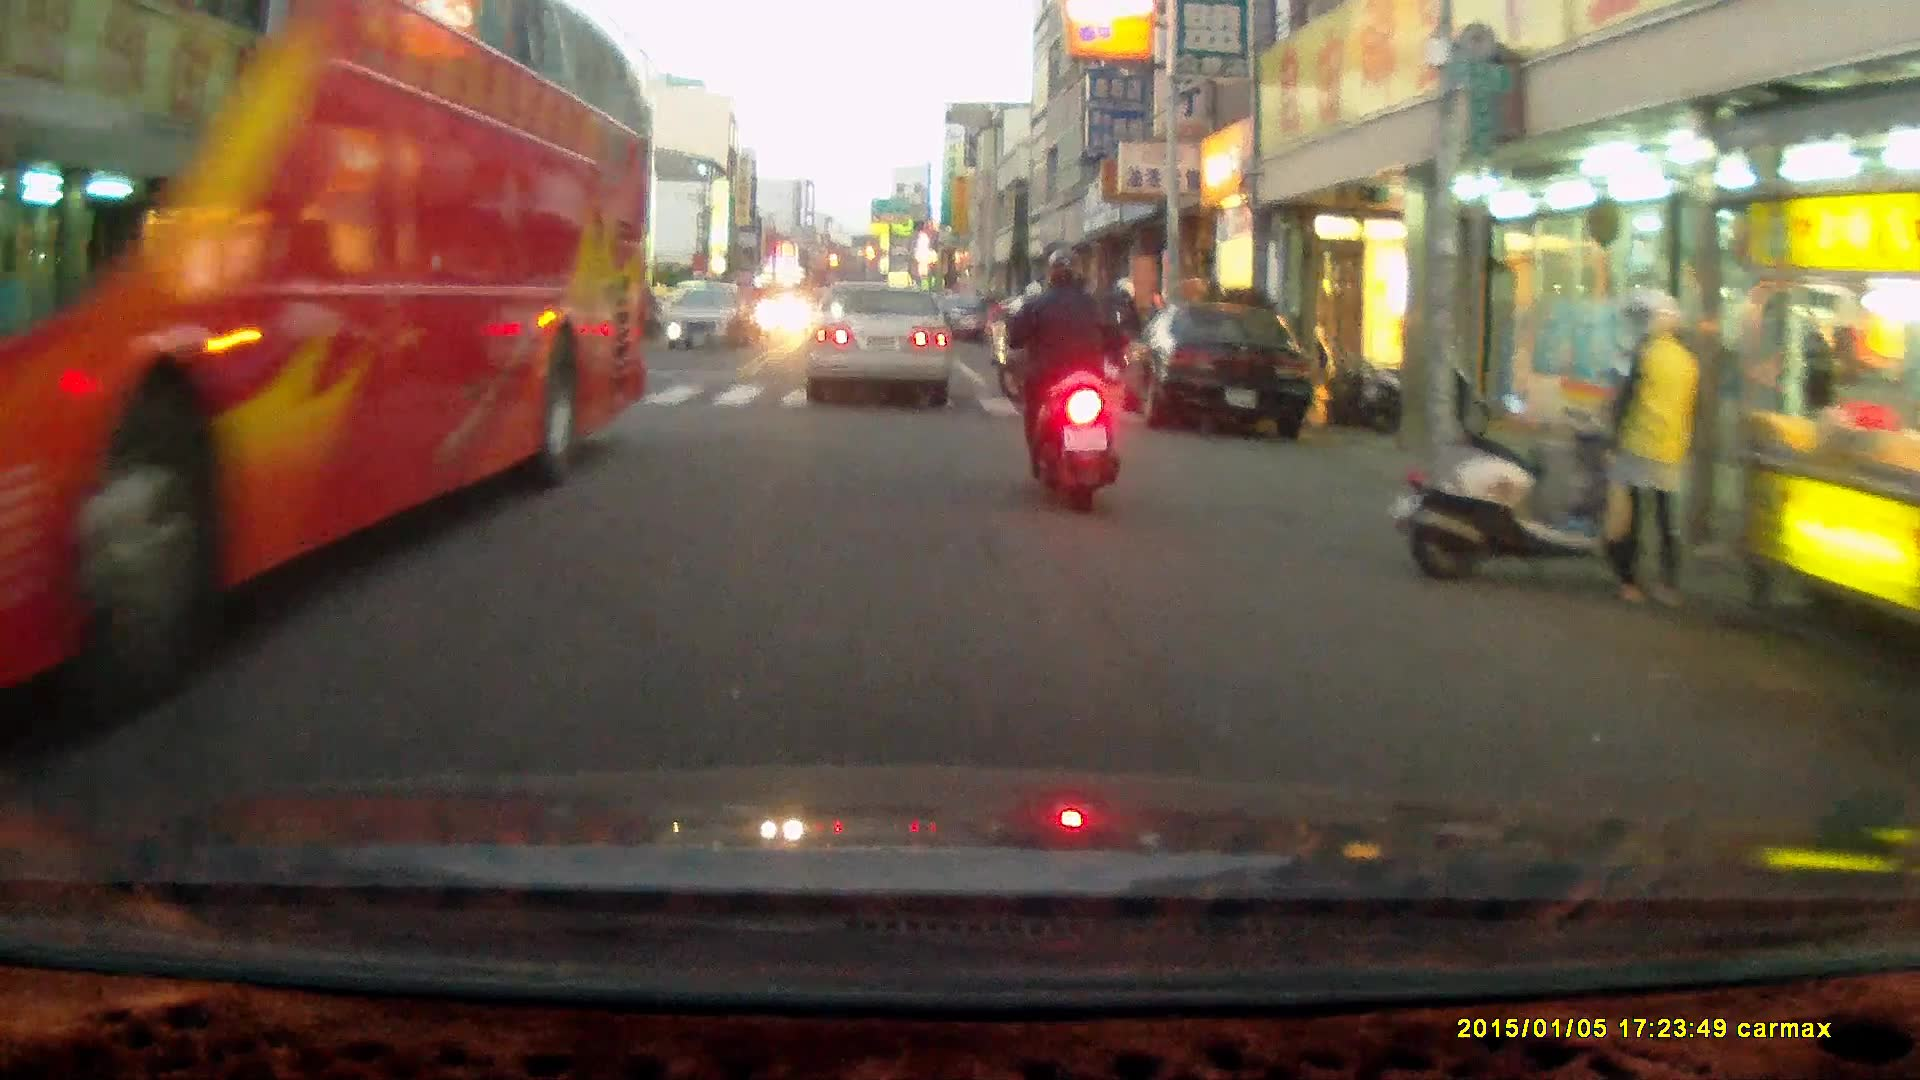pedestrian: (1596, 282, 1700, 610), (1106, 276, 1143, 394)
rider: (996, 245, 1121, 512)
vehicle: (1, 16, 660, 705), (1118, 302, 1328, 435), (807, 281, 956, 405), (664, 283, 756, 352)
